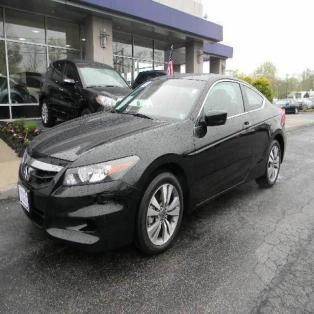Auto: (18, 72, 285, 255)
